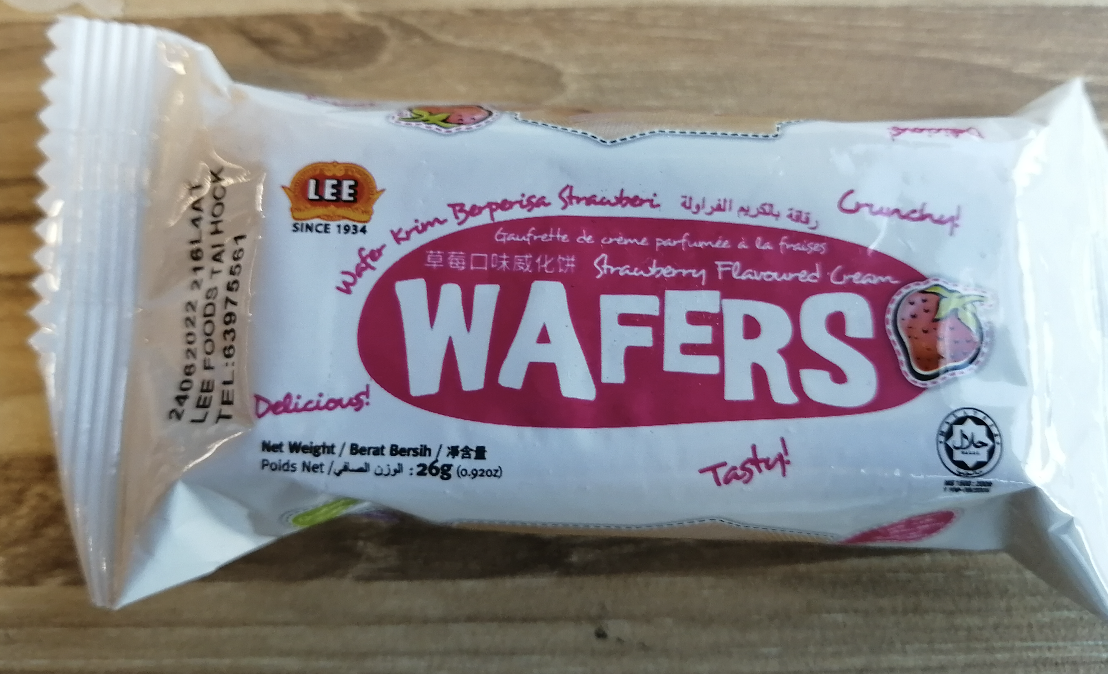Wafers: (94, 135, 1077, 526)
